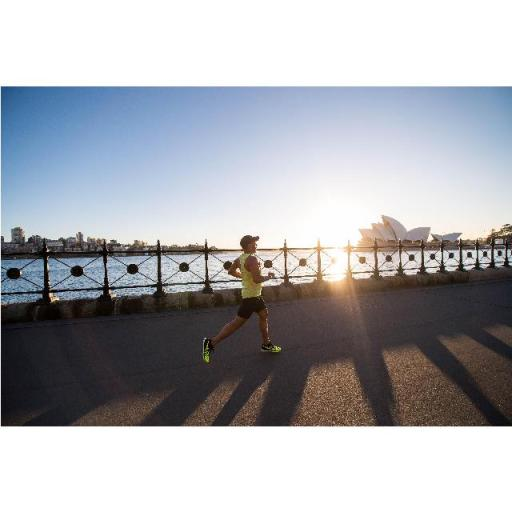Running: (190, 228, 288, 370)
